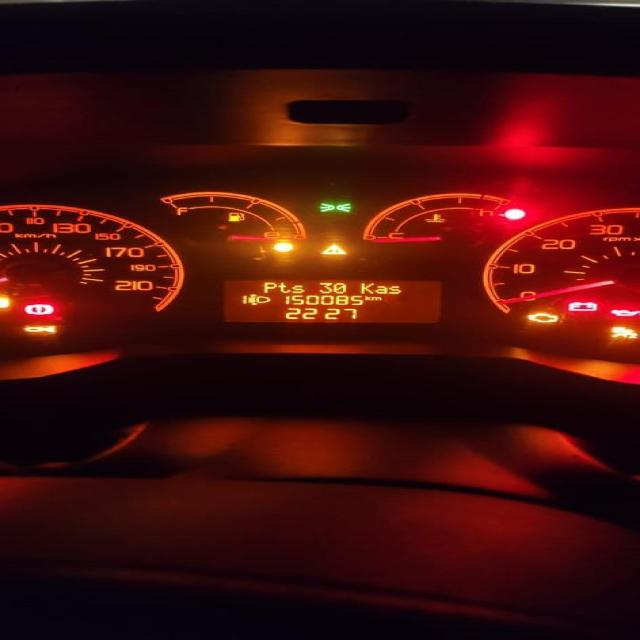odometer: (217, 278, 449, 324)
